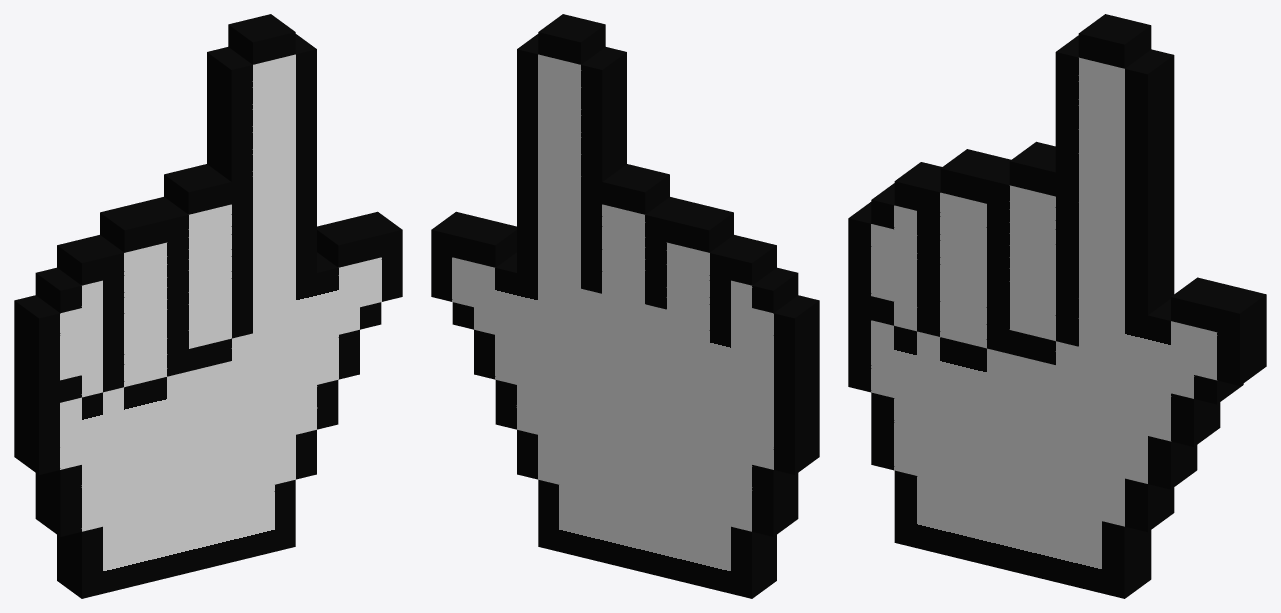
File: hand.gltf
3 renders of one model, left to right at view 1: azimuth 30°, elevation 25°; view 2: azimuth 150°, elevation 25°; view 3: azimuth 330°, elevation 25°, orthographic. The views are drawn at different scales.
Visible parts, largest first — view 1: cube (×19); view 2: cube (×19); view 3: cube (×19).
Boxes of the visible parts, x1,y1,x2,y2 form: cube (×19): (14, 14, 402, 598); cube (×19): (431, 14, 819, 598); cube (×19): (848, 14, 1266, 598).
Bounding box in the file's own units: 0.2656 × 0.3594 × 0.0312.
Materials: 1 (1 with a texture image).
